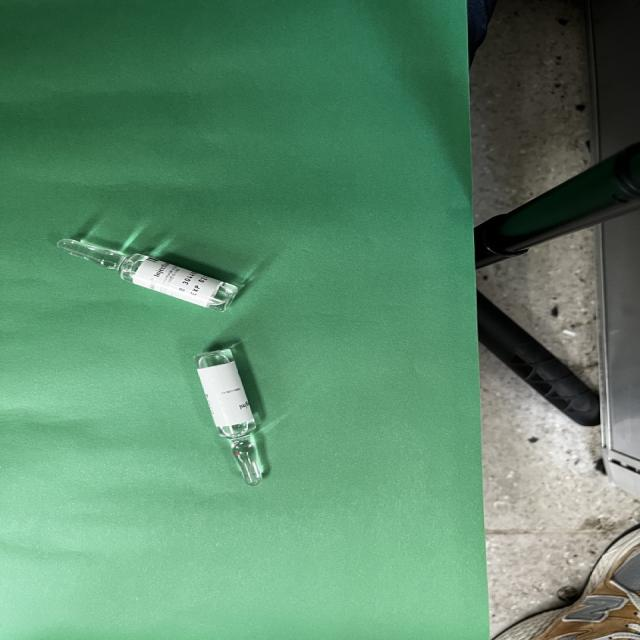Ampoules: (56, 238, 238, 312), (194, 348, 262, 486)
